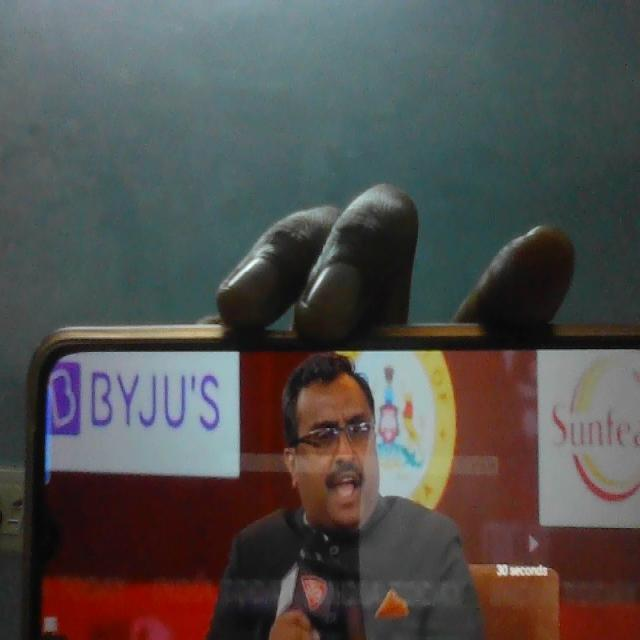fake: (276, 322, 394, 546)
